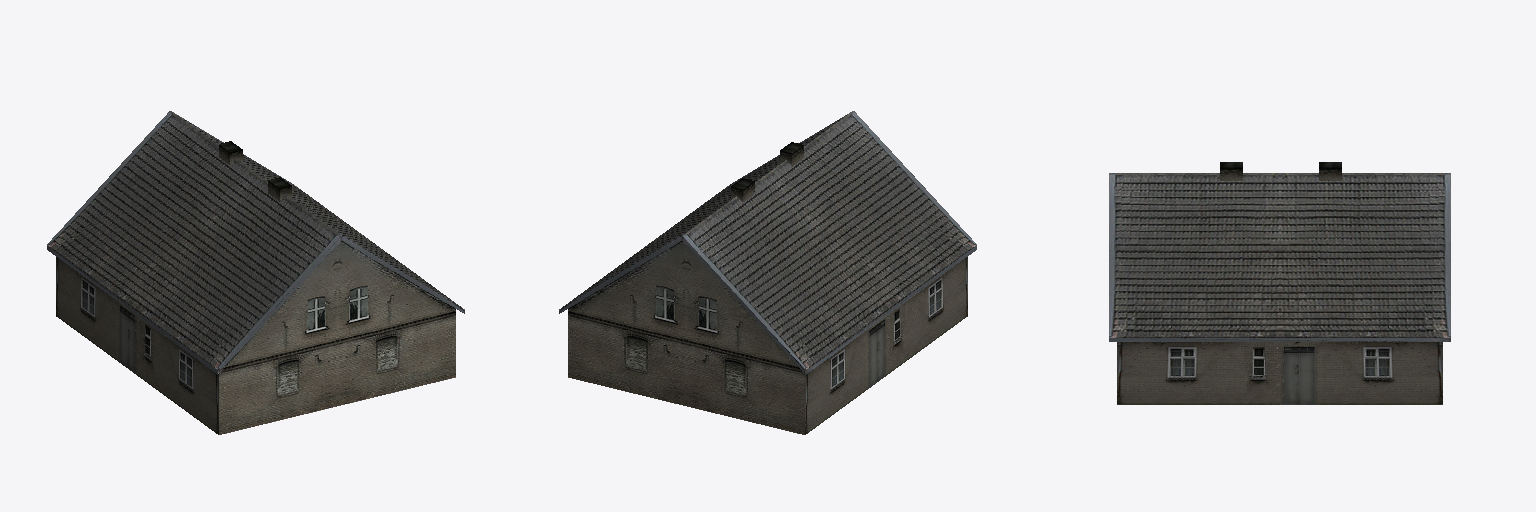
3 renders of one model, left to right at view 1: azimuth 30°, elevation 25°; view 2: azimuth 150°, elevation 25°; view 3: azimuth 270°, elevation 25°, orthographic.
Visible parts, largest first — view 1: polish_house_4; view 2: polish_house_4; view 3: polish_house_4.
Part boxes in pixels (left/top/right/bottom): polish_house_4: left=47, top=111, right=464, bottom=434; polish_house_4: left=559, top=111, right=976, bottom=434; polish_house_4: left=1109, top=162, right=1450, bottom=404.
Bounding box in the file's own units: 10 × 7 × 12.
1 materials, 1 textured.